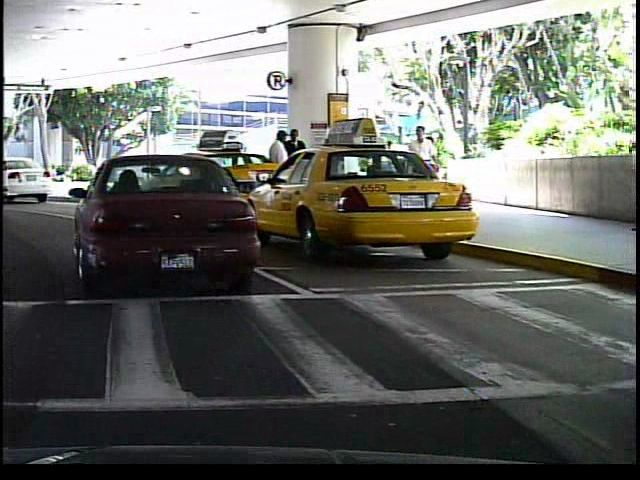person: (402, 120, 439, 211), (262, 126, 293, 211), (417, 131, 449, 203), (285, 126, 308, 206)
